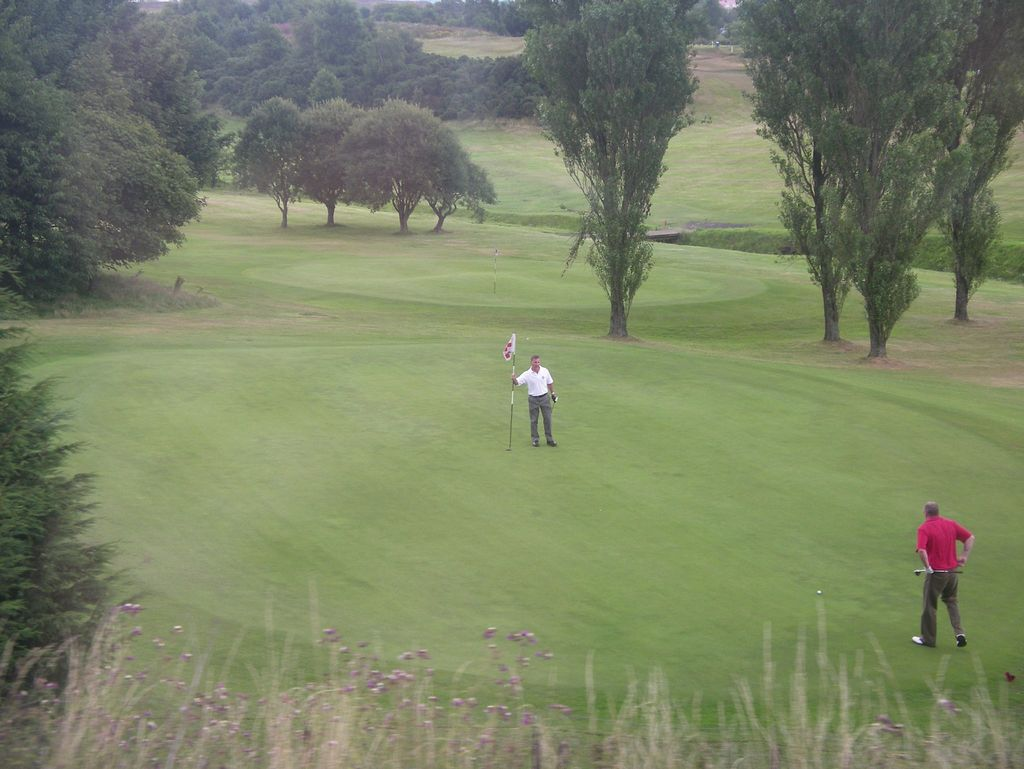Person: (911, 501, 975, 646), (510, 353, 560, 448)
